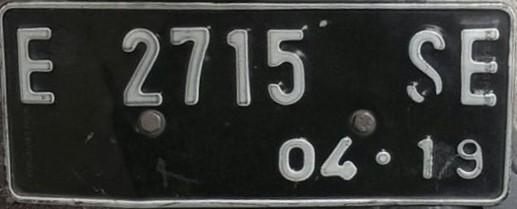1: (164, 25, 216, 112), (212, 23, 262, 112)
2: (106, 26, 167, 107)
5: (250, 24, 319, 110)
E: (11, 18, 68, 111), (456, 22, 506, 110)
S: (395, 26, 458, 110)
